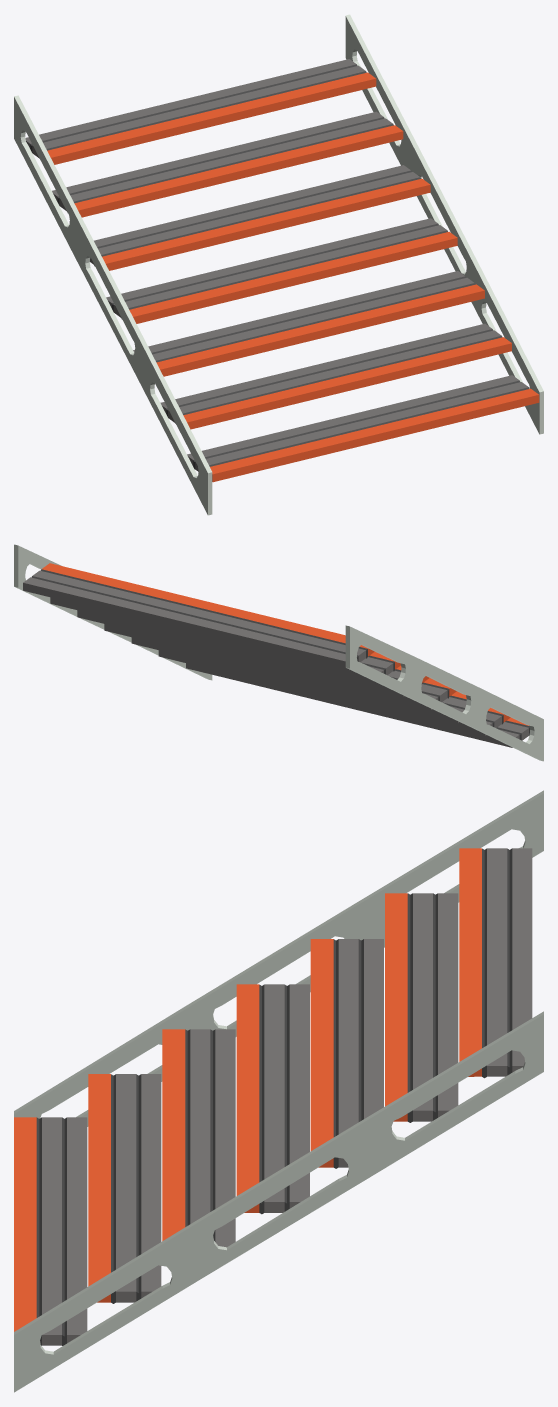
File: Dock_Stair_01.glb
3 renders of one model, top to bottom at view 1: azimuth 30°, elevation 25°; view 2: azimuth 150°, elevation 25°; view 3: azimuth 270°, elevation 25°, orthographic. The views are drawn at different scales.
Visible parts, largest first — view 1: Dock_Stair_01; view 2: Dock_Stair_01; view 3: Dock_Stair_01.
Boxes of the visible parts, <box> form: Dock_Stair_01: <box>14,14,543,515</box>; Dock_Stair_01: <box>14,544,543,761</box>; Dock_Stair_01: <box>14,790,543,1392</box>.
Size of what is drawn, in the model's own units: 3 by 2.36 by 3.
Materials: 1 (1 with a texture image).
